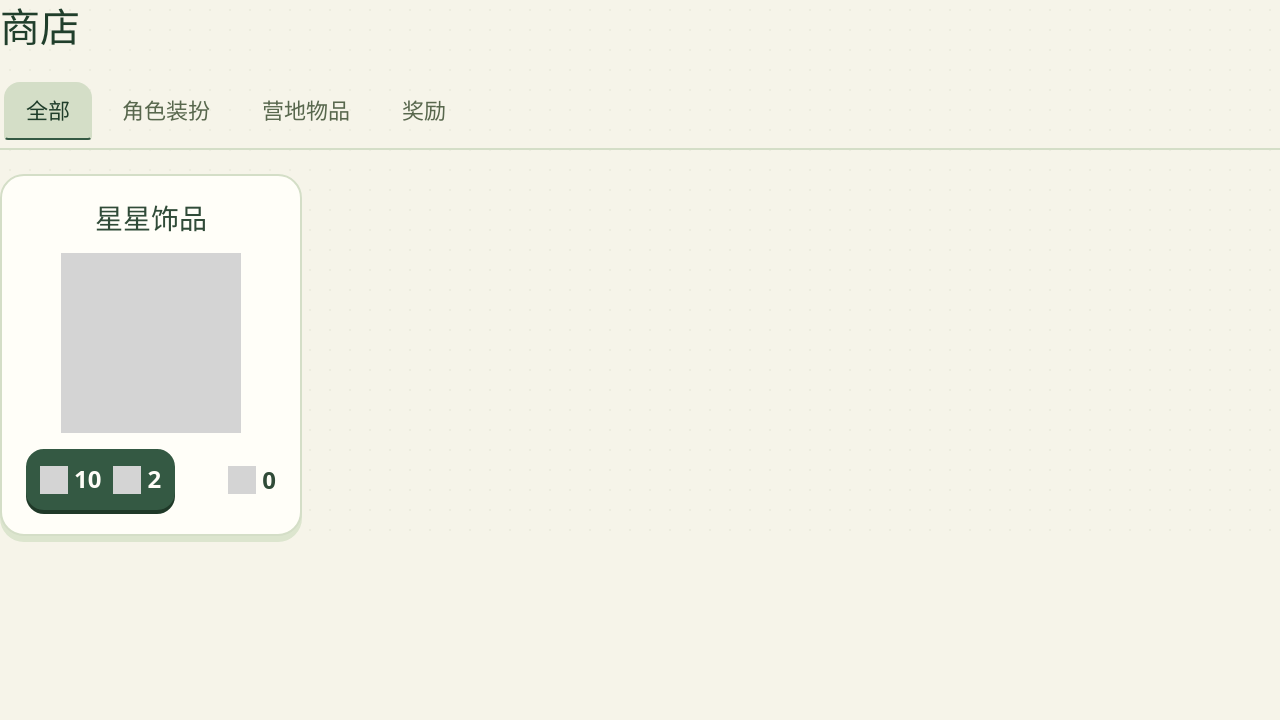
Test case: 商店页面读取与动作边界 › 奖励 购买后仍在当前商店分类
Expected: the heading "星星饰品" is shown, [95,199,207,237]
Click the tab "奖励". click: (424, 111)
box: [380,82,468,140]
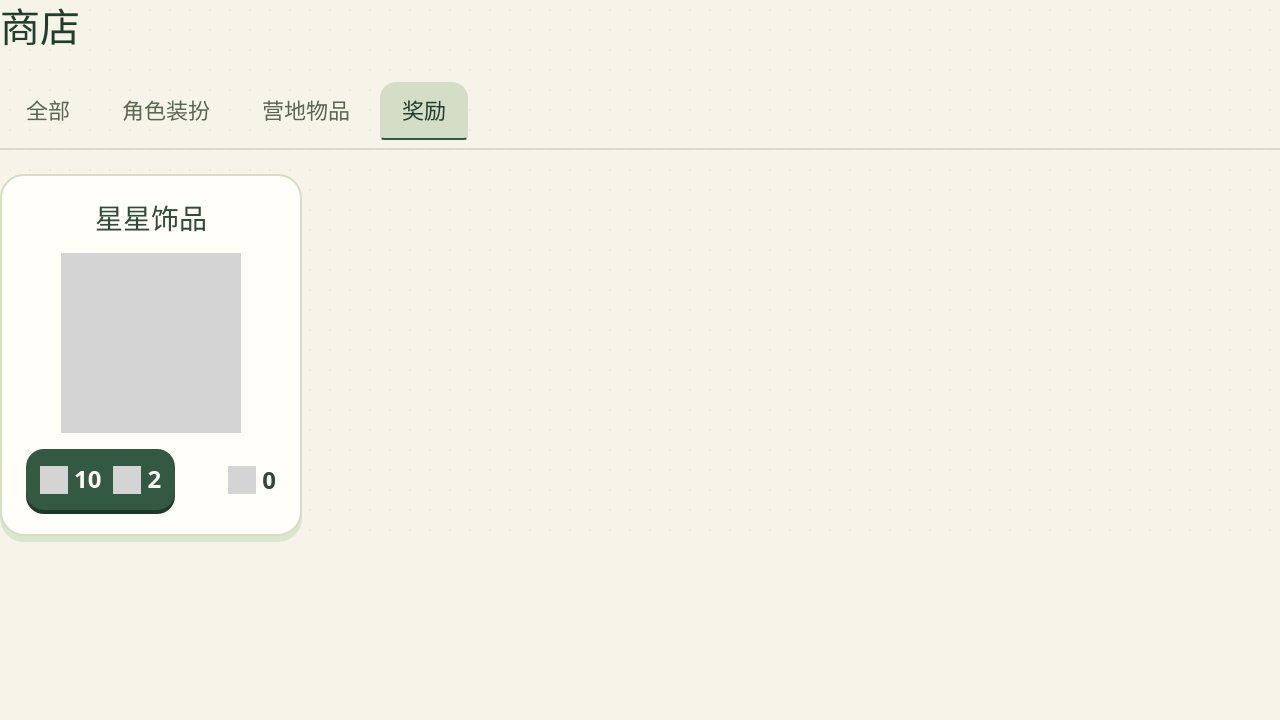
Click the button "10 2". click: (101, 480)
box: [26,450,175,510]
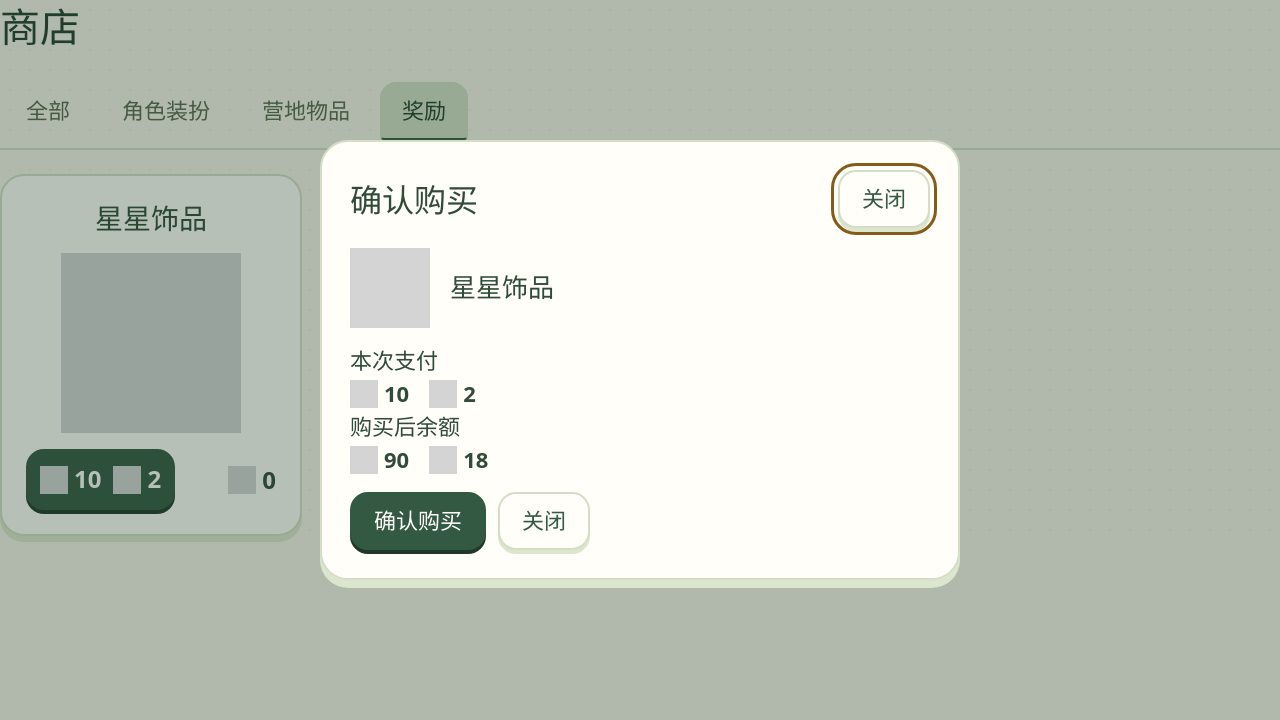
Click the button "确认购买". click: (418, 521)
box: [350,492,486,550]
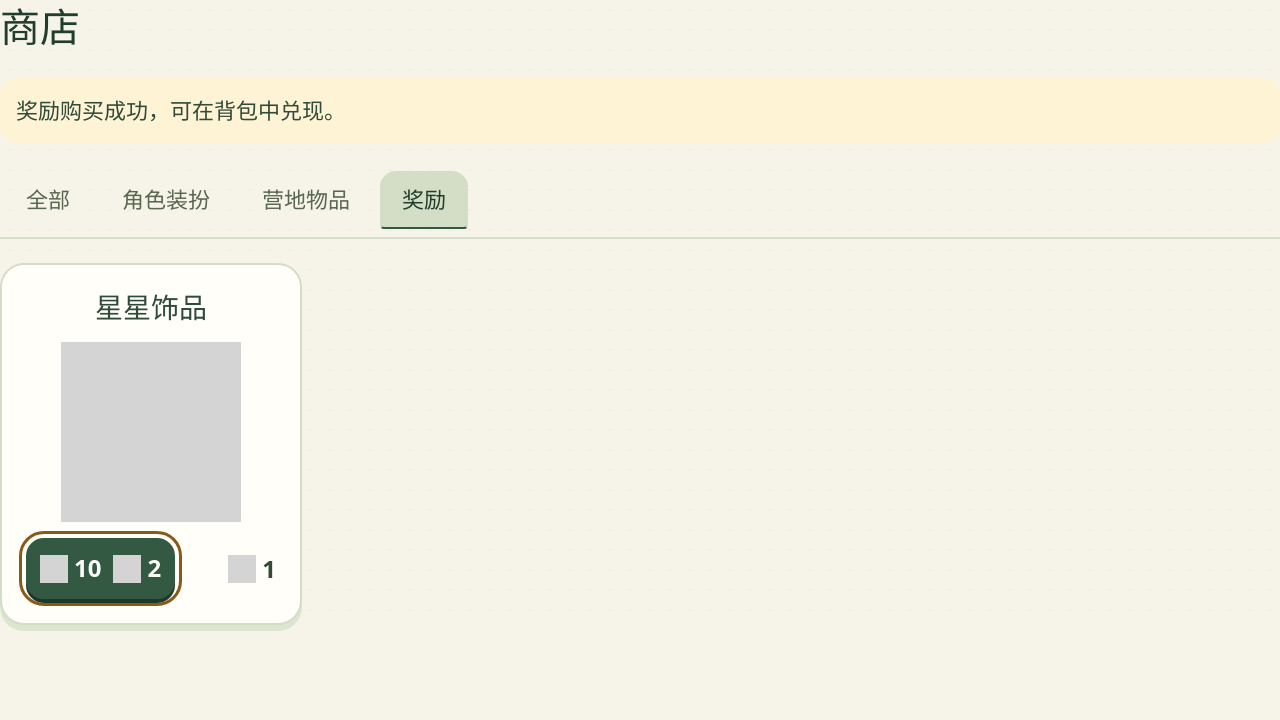
Expected: the text "奖励购买成功，可在背包中兑现。" is shown, [0,78,1279,143]
Expected: the element showing "1" is shown, [228,551,276,587]
Expected: the dialog is gone
